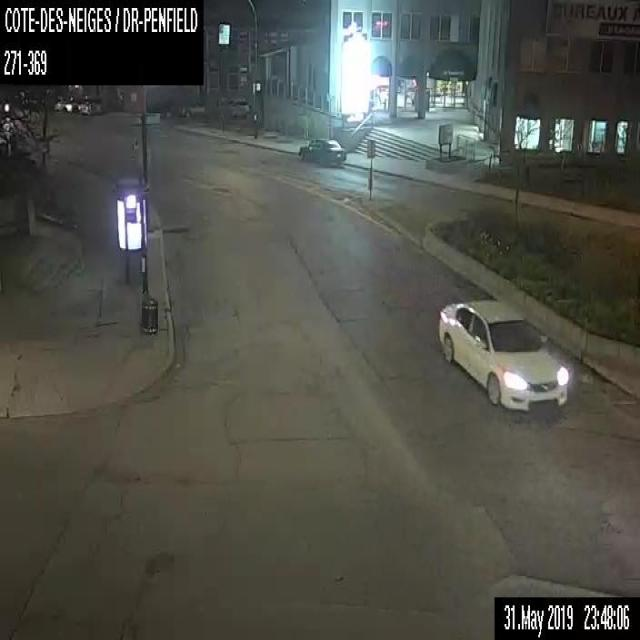vehicle: (438, 298, 567, 410), (298, 136, 347, 165), (182, 97, 209, 118), (224, 97, 250, 118), (78, 96, 101, 114), (65, 99, 78, 112)
